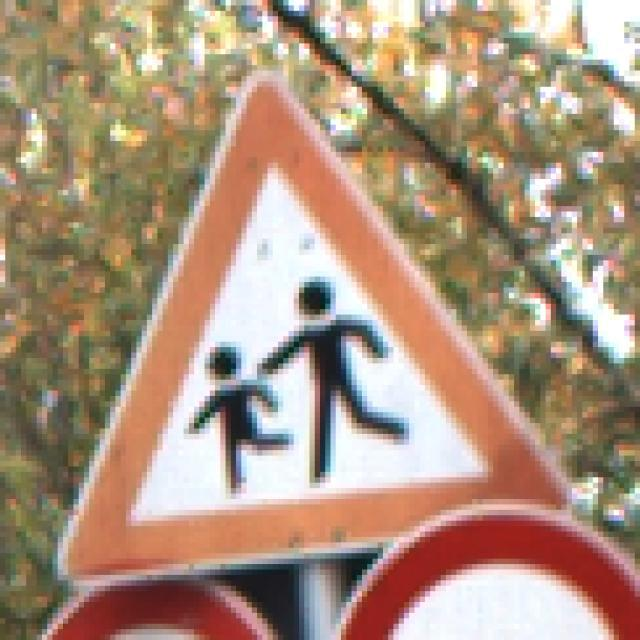school ahead: (58, 78, 563, 584)
